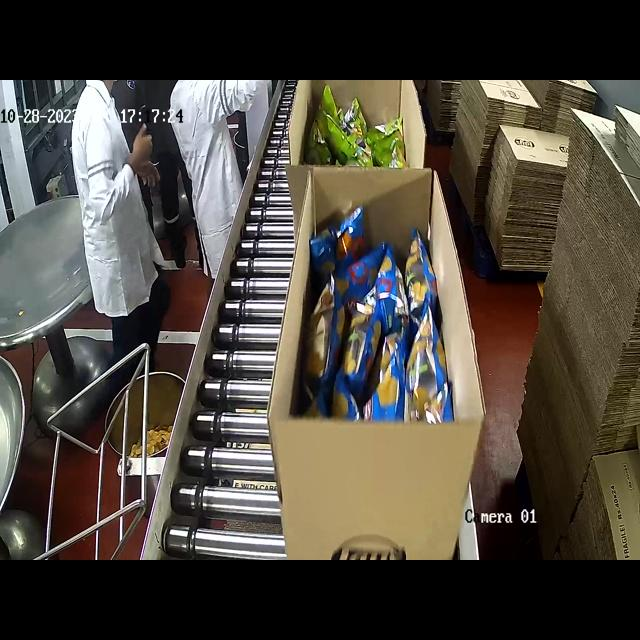paprika: (313, 232, 441, 426)
yogurt: (312, 95, 427, 183)
